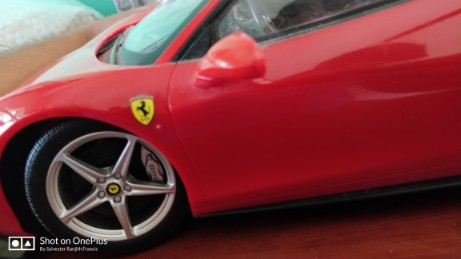unaligned_wheel: (15, 109, 200, 252)
